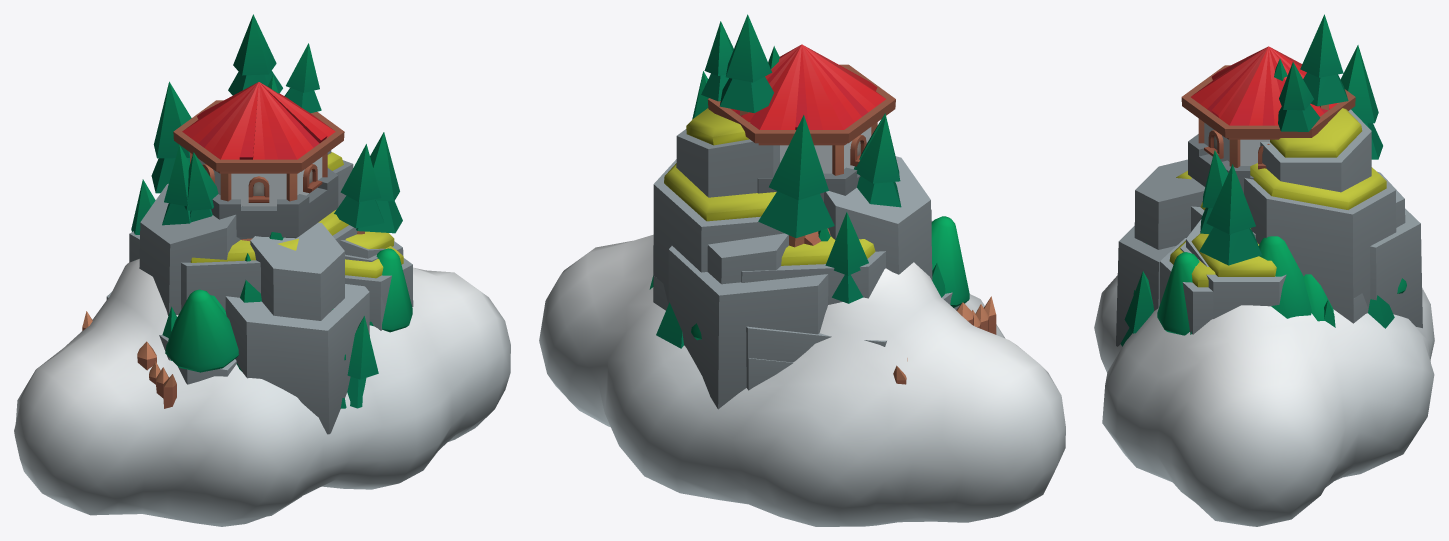
Rendered from village.glb.
3 renders of one model, left to right at view 1: azimuth 30°, elevation 25°; view 2: azimuth 150°, elevation 25°; view 3: azimuth 270°, elevation 25°, orthographic. The views are drawn at different scales.
Visible parts, largest first — view 1: cloud_big, mountain_C, building_tower_A_top_red, mountain_A_grass_trees, mountain_B_grass_trees, trees_B_large, building_tower_A_red, trees_A_large, mountain_A, fence_wood_straight; view 2: cloud_big, mountain_C, mountain_B_grass_trees, building_tower_A_top_red, mountain_A_grass_trees, mountain_B, trees_B_large, mountain_A, trees_A_large, building_tower_A_red, fence_wood_straight; view 3: cloud_big, mountain_B_grass_trees, mountain_C, building_tower_A_top_red, mountain_A_grass_trees, mountain_B, trees_B_large, trees_B_medium, trees_A_large, building_tower_A_red, mountain_A.
Part boxes in pixels (<box>): cloud_big: <box>14,259,510,526</box>; mountain_C: <box>139,183,385,434</box>; building_tower_A_top_red: <box>173,82,344,206</box>; mountain_A_grass_trees: <box>151,75,412,329</box>; mountain_B_grass_trees: <box>106,14,403,359</box>; trees_B_large: <box>165,248,412,372</box>; building_tower_A_red: <box>211,168,338,239</box>; trees_A_large: <box>162,306,378,408</box>; mountain_A: <box>129,225,413,310</box>; fence_wood_straight: <box>82,311,172,408</box>; cloud_big: <box>539,234,1065,526</box>; mountain_C: <box>668,156,965,409</box>; mountain_B_grass_trees: <box>653,14,954,362</box>; building_tower_A_top_red: <box>707,44,895,175</box>; mountain_A_grass_trees: <box>654,46,901,390</box>; mountain_B: <box>653,136,952,389</box>; trees_B_large: <box>931,216,969,307</box>; mountain_A: <box>742,209,931,390</box>; trees_A_large: <box>649,263,945,348</box>; building_tower_A_red: <box>757,167,860,201</box>; fence_wood_straight: <box>893,296,996,384</box>; cloud_big: <box>1094,275,1434,526</box>; mountain_B_grass_trees: <box>1180,14,1396,323</box>; mountain_C: <box>1116,159,1422,346</box>; building_tower_A_top_red: <box>1181,46,1355,169</box>; mountain_A_grass_trees: <box>1160,45,1382,322</box>; mountain_B: <box>1209,109,1376,294</box>; trees_B_large: <box>1133,243,1333,335</box>; trees_B_medium: <box>1259,236,1406,318</box>; trees_A_large: <box>1120,271,1394,346</box>; building_tower_A_red: <box>1188,134,1253,193</box>; mountain_A: <box>1182,206,1353,334</box>.
Size of the model in its own units: 3.61 by 3.41 by 2.24.
1 material, 1 textured.
